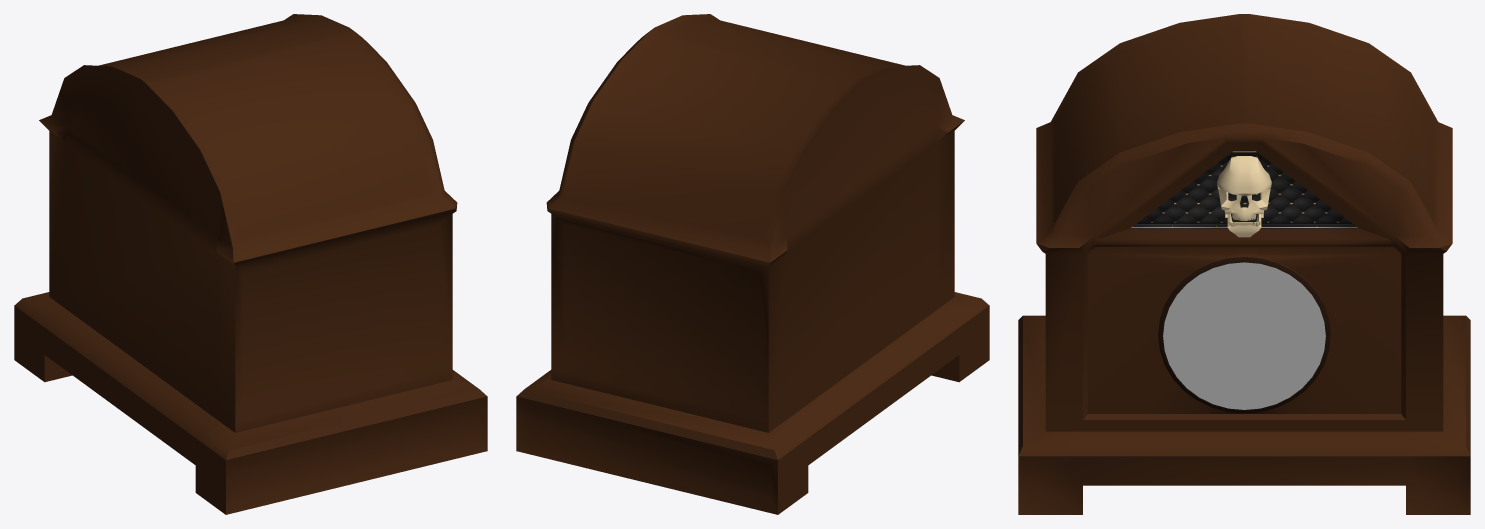
File: Clock.fbx
3 views of the same model, side by side, from view 1: azimuth 30°, elevation 25°; view 2: azimuth 150°, elevation 25°; view 3: azimuth 270°, elevation 25° (orthographic). The views are drawn at different scales.
Parts seen in each view (by area): view 1: Clock; view 2: Clock; view 3: Clock, Clock_open.
Part boxes in pixels (x1,y1,x2,y2): Clock: (14,14,487,514); Clock: (516,14,989,514); Clock: (1018,14,1470,514); Clock_open: (1163,262,1325,409).
Size of the model in its own units: 50 by 64.26 by 70.
